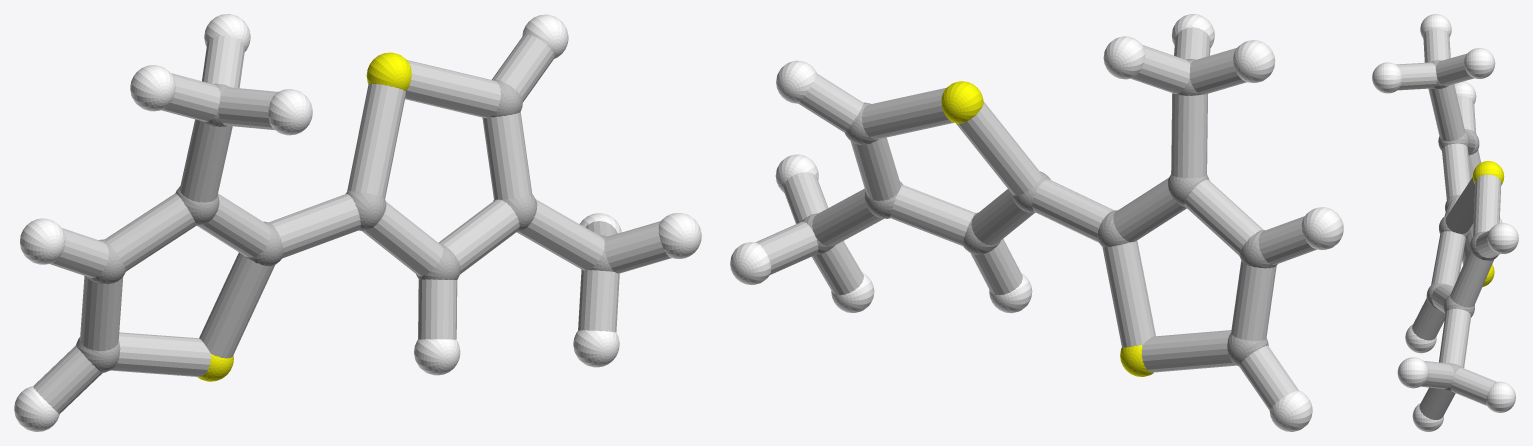
Rendered from Methylthiophene_Phi_15_Theta_330_Methylthiophene.glb.
3 views of the same model, side by side, from view 1: azimuth 30°, elevation 25°; view 2: azimuth 150°, elevation 25°; view 3: azimuth 270°, elevation 25° (orthographic). The views are drawn at different scales.
Parts seen in each view (by area): view 1: grp7965, grp3621, grp1, grp7241; view 2: grp7965, grp3621, grp1, grp7241; view 3: grp7965, grp3621, grp1, grp7241.
Part boxes in pixels (bbox=[...]): grp7965: bbox=[33, 34, 671, 413]; grp3621: bbox=[14, 14, 701, 431]; grp1: bbox=[76, 79, 613, 372]; grp7241: bbox=[197, 52, 411, 381]; grp7965: bbox=[755, 27, 1316, 410]; grp3621: bbox=[730, 14, 1343, 431]; grp1: bbox=[801, 59, 1277, 366]; grp7241: bbox=[941, 81, 1153, 376]; grp7965: bbox=[1396, 28, 1501, 419]; grp3621: bbox=[1372, 14, 1518, 431]; grp1: bbox=[1426, 60, 1498, 391]; grp7241: bbox=[1472, 161, 1504, 286].
Bounding box in the file's own units: 9.55 × 5.73 × 2.8.
